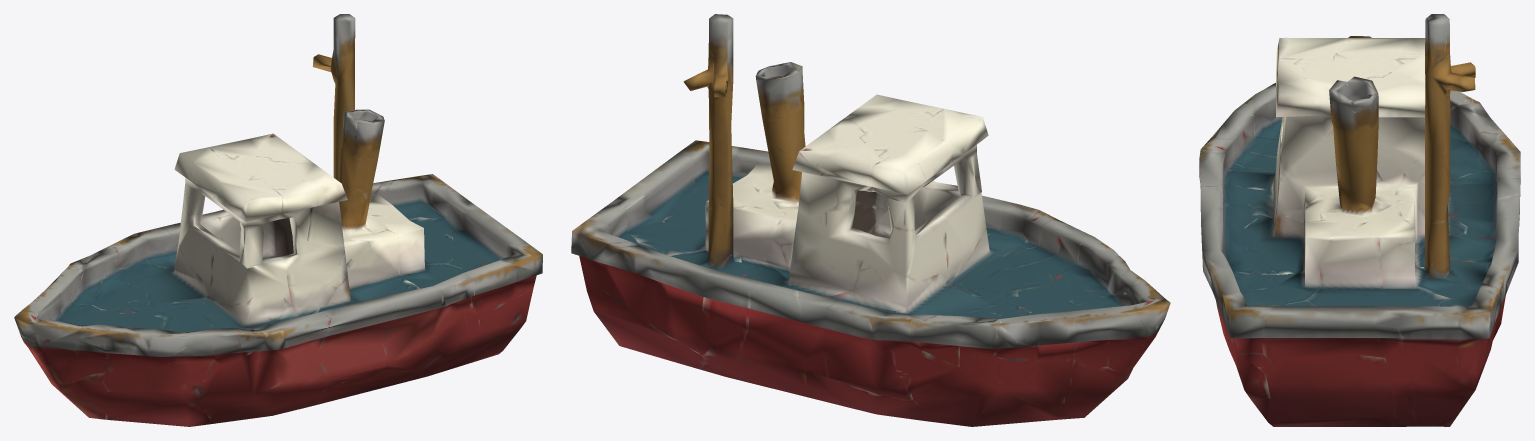
File: barco_de_juguete.glb
The picture shows the model from 3 angles, left to right: view 1: azimuth 30°, elevation 25°; view 2: azimuth 150°, elevation 25°; view 3: azimuth 270°, elevation 25°; orthographic projection. The views are drawn at different scales.
Bounding box in the file's own units: 1.9 × 1.18 × 0.9554.
Materials: 1 (1 with a texture image).
